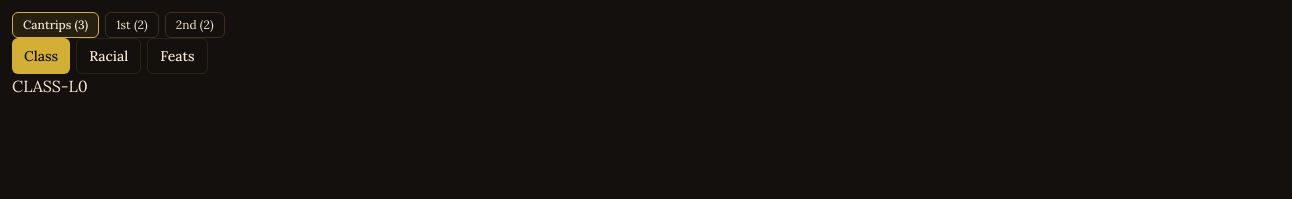
it: SpellSourceLevelView › leveled racial spells › keeps the use control off the cantrip tab
What coordinates should you click on to do the following:
click the button with test id "spell-source-racial"
I would click on:
 (109, 56)
Its box is [76, 38, 141, 74].
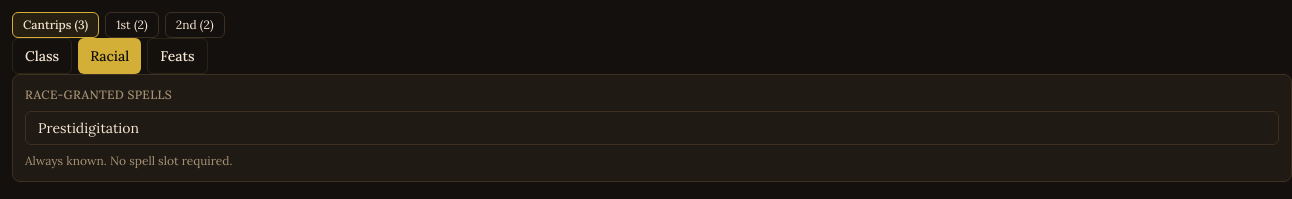
Result: the button "Prestidigitation" is shown at [38, 118, 1258, 138]
